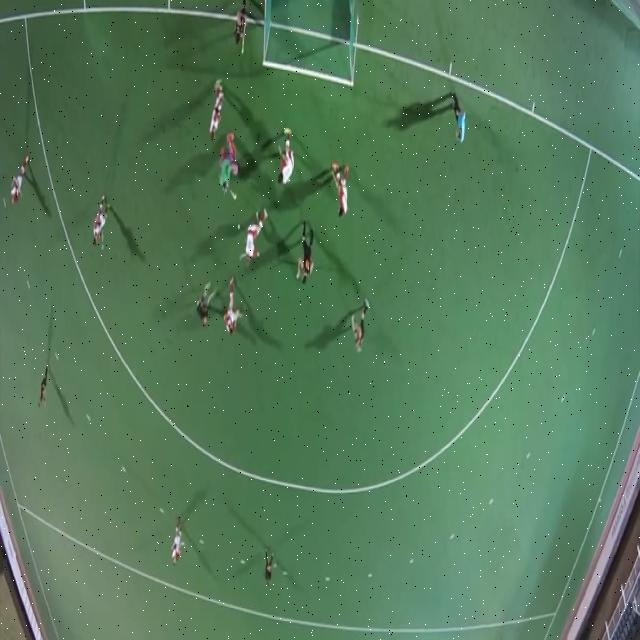humans: (238, 199, 270, 272), (274, 117, 300, 197), (193, 260, 217, 338), (223, 279, 249, 345), (348, 291, 372, 357), (295, 220, 317, 292), (8, 152, 31, 220), (207, 68, 226, 146), (91, 192, 114, 256), (331, 155, 350, 225), (216, 152, 240, 201), (168, 513, 186, 575), (452, 88, 468, 150), (36, 353, 50, 418), (233, 0, 249, 55), (261, 540, 276, 590)
